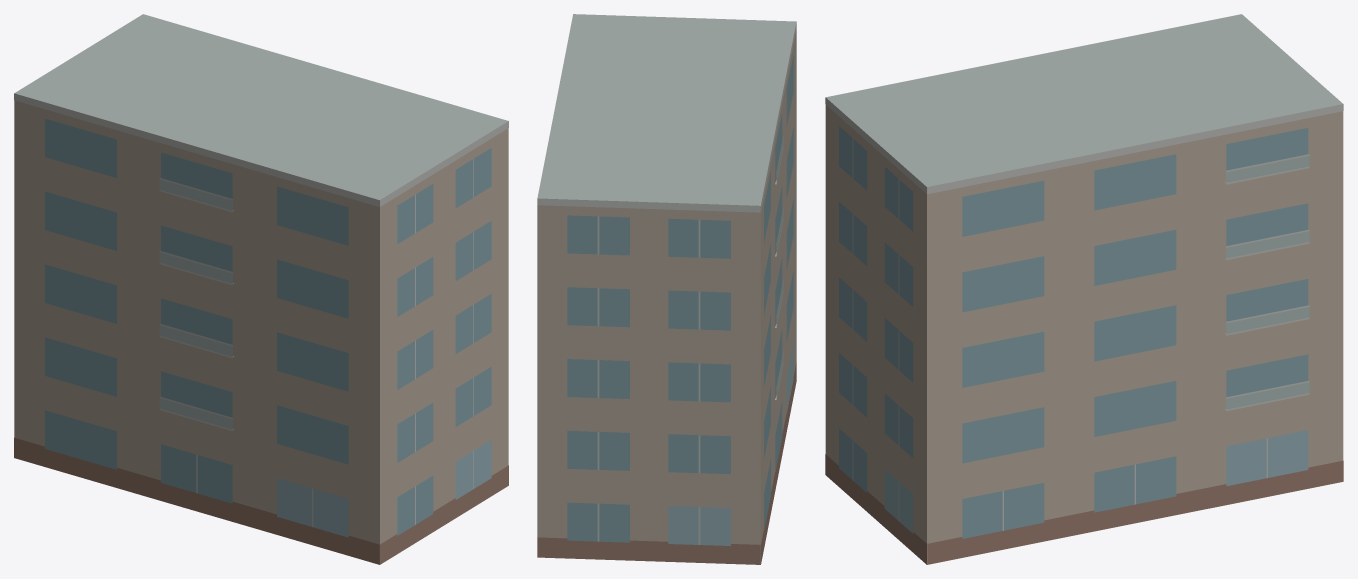
Rendered from survey-upis-32745146.glb.
3 renders of one model, left to right at view 1: azimuth 30°, elevation 25°; view 2: azimuth 150°, elevation 25°; view 3: azimuth 270°, elevation 25°, orthographic. The views are drawn at different scales.
Parts seen in each view (by area): view 1: survey-upis-32745146.tmp; view 2: survey-upis-32745146.tmp; view 3: survey-upis-32745146.tmp.
Part boxes in pixels (x1=…): survey-upis-32745146.tmp: x1=14, y1=14, x2=508, y2=564; survey-upis-32745146.tmp: x1=537, y1=14, x2=796, y2=564; survey-upis-32745146.tmp: x1=825, y1=14, x2=1343, y2=564.
Size of the model in its own units: 12.69 by 12.9 by 16.04.
